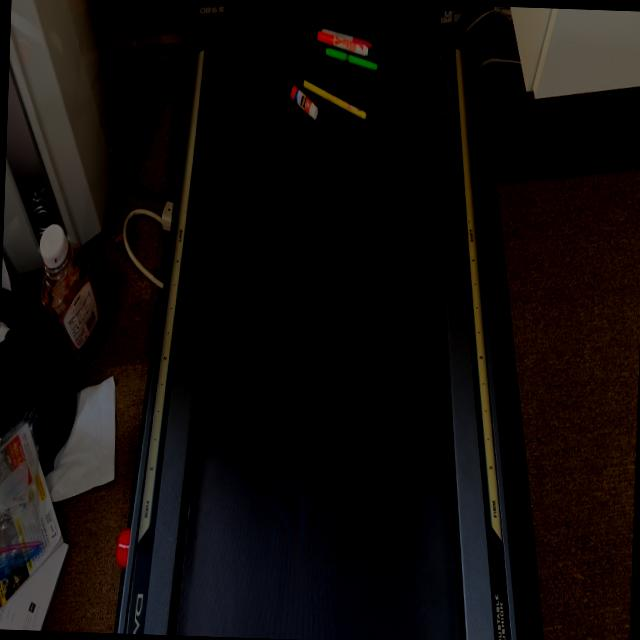Trash: (288, 19, 380, 137)
